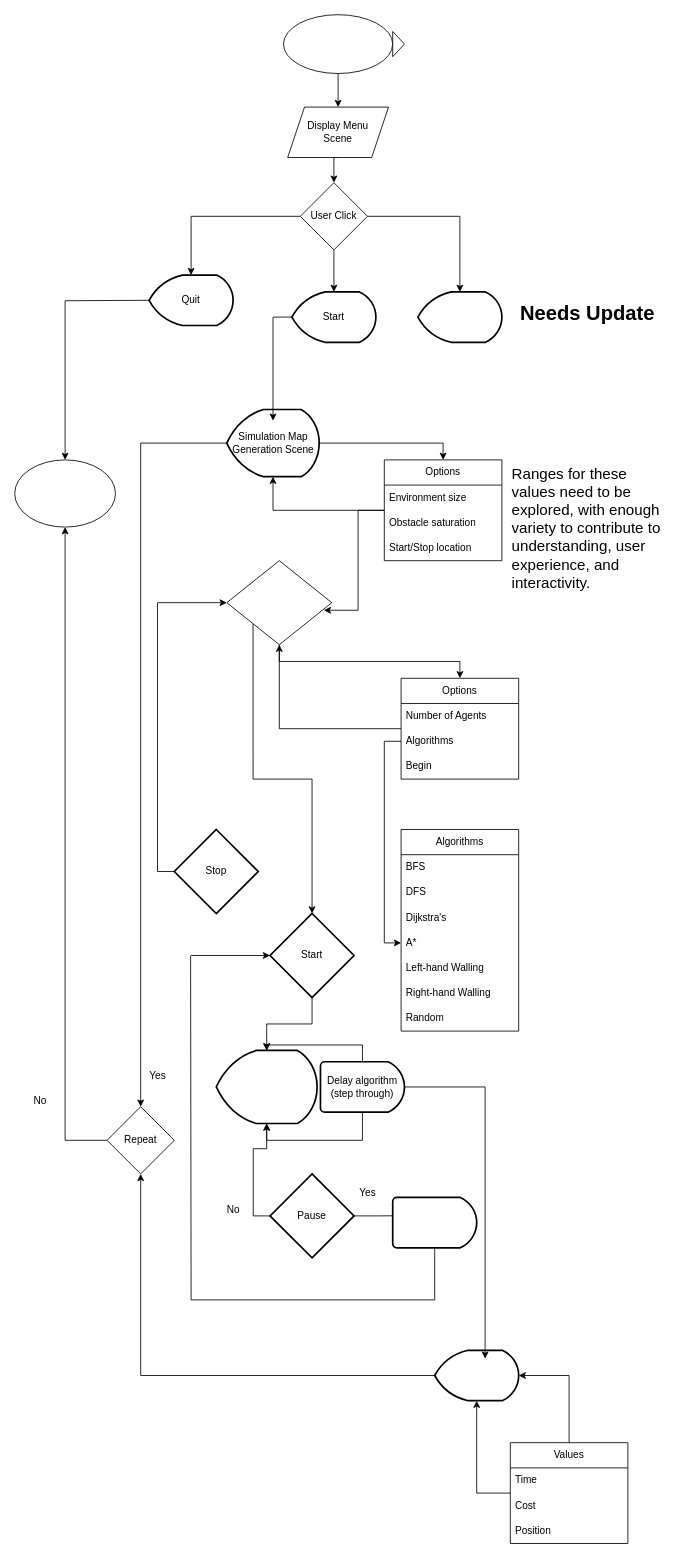
Image size: 685x1558. Some labels were removed from this diagram. The shapes that lost their labels are listed below. From the top down, each one's box as (x1, y1, x2, y2) in pixels, then its label:
(283, 14, 393, 74): Program Start
(417, 291, 502, 343): Tutorial
(14, 459, 116, 527): Program Exit
(226, 560, 332, 645): Map Confirmation
(215, 1049, 318, 1124): Animate Agents on Map
(391, 1196, 477, 1248): Freeze State
(433, 1349, 519, 1401): Results
